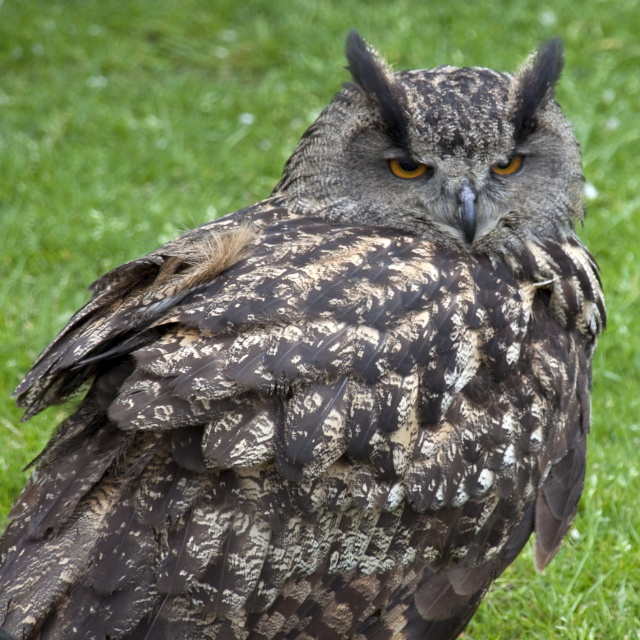Owl: (1, 23, 621, 640)
